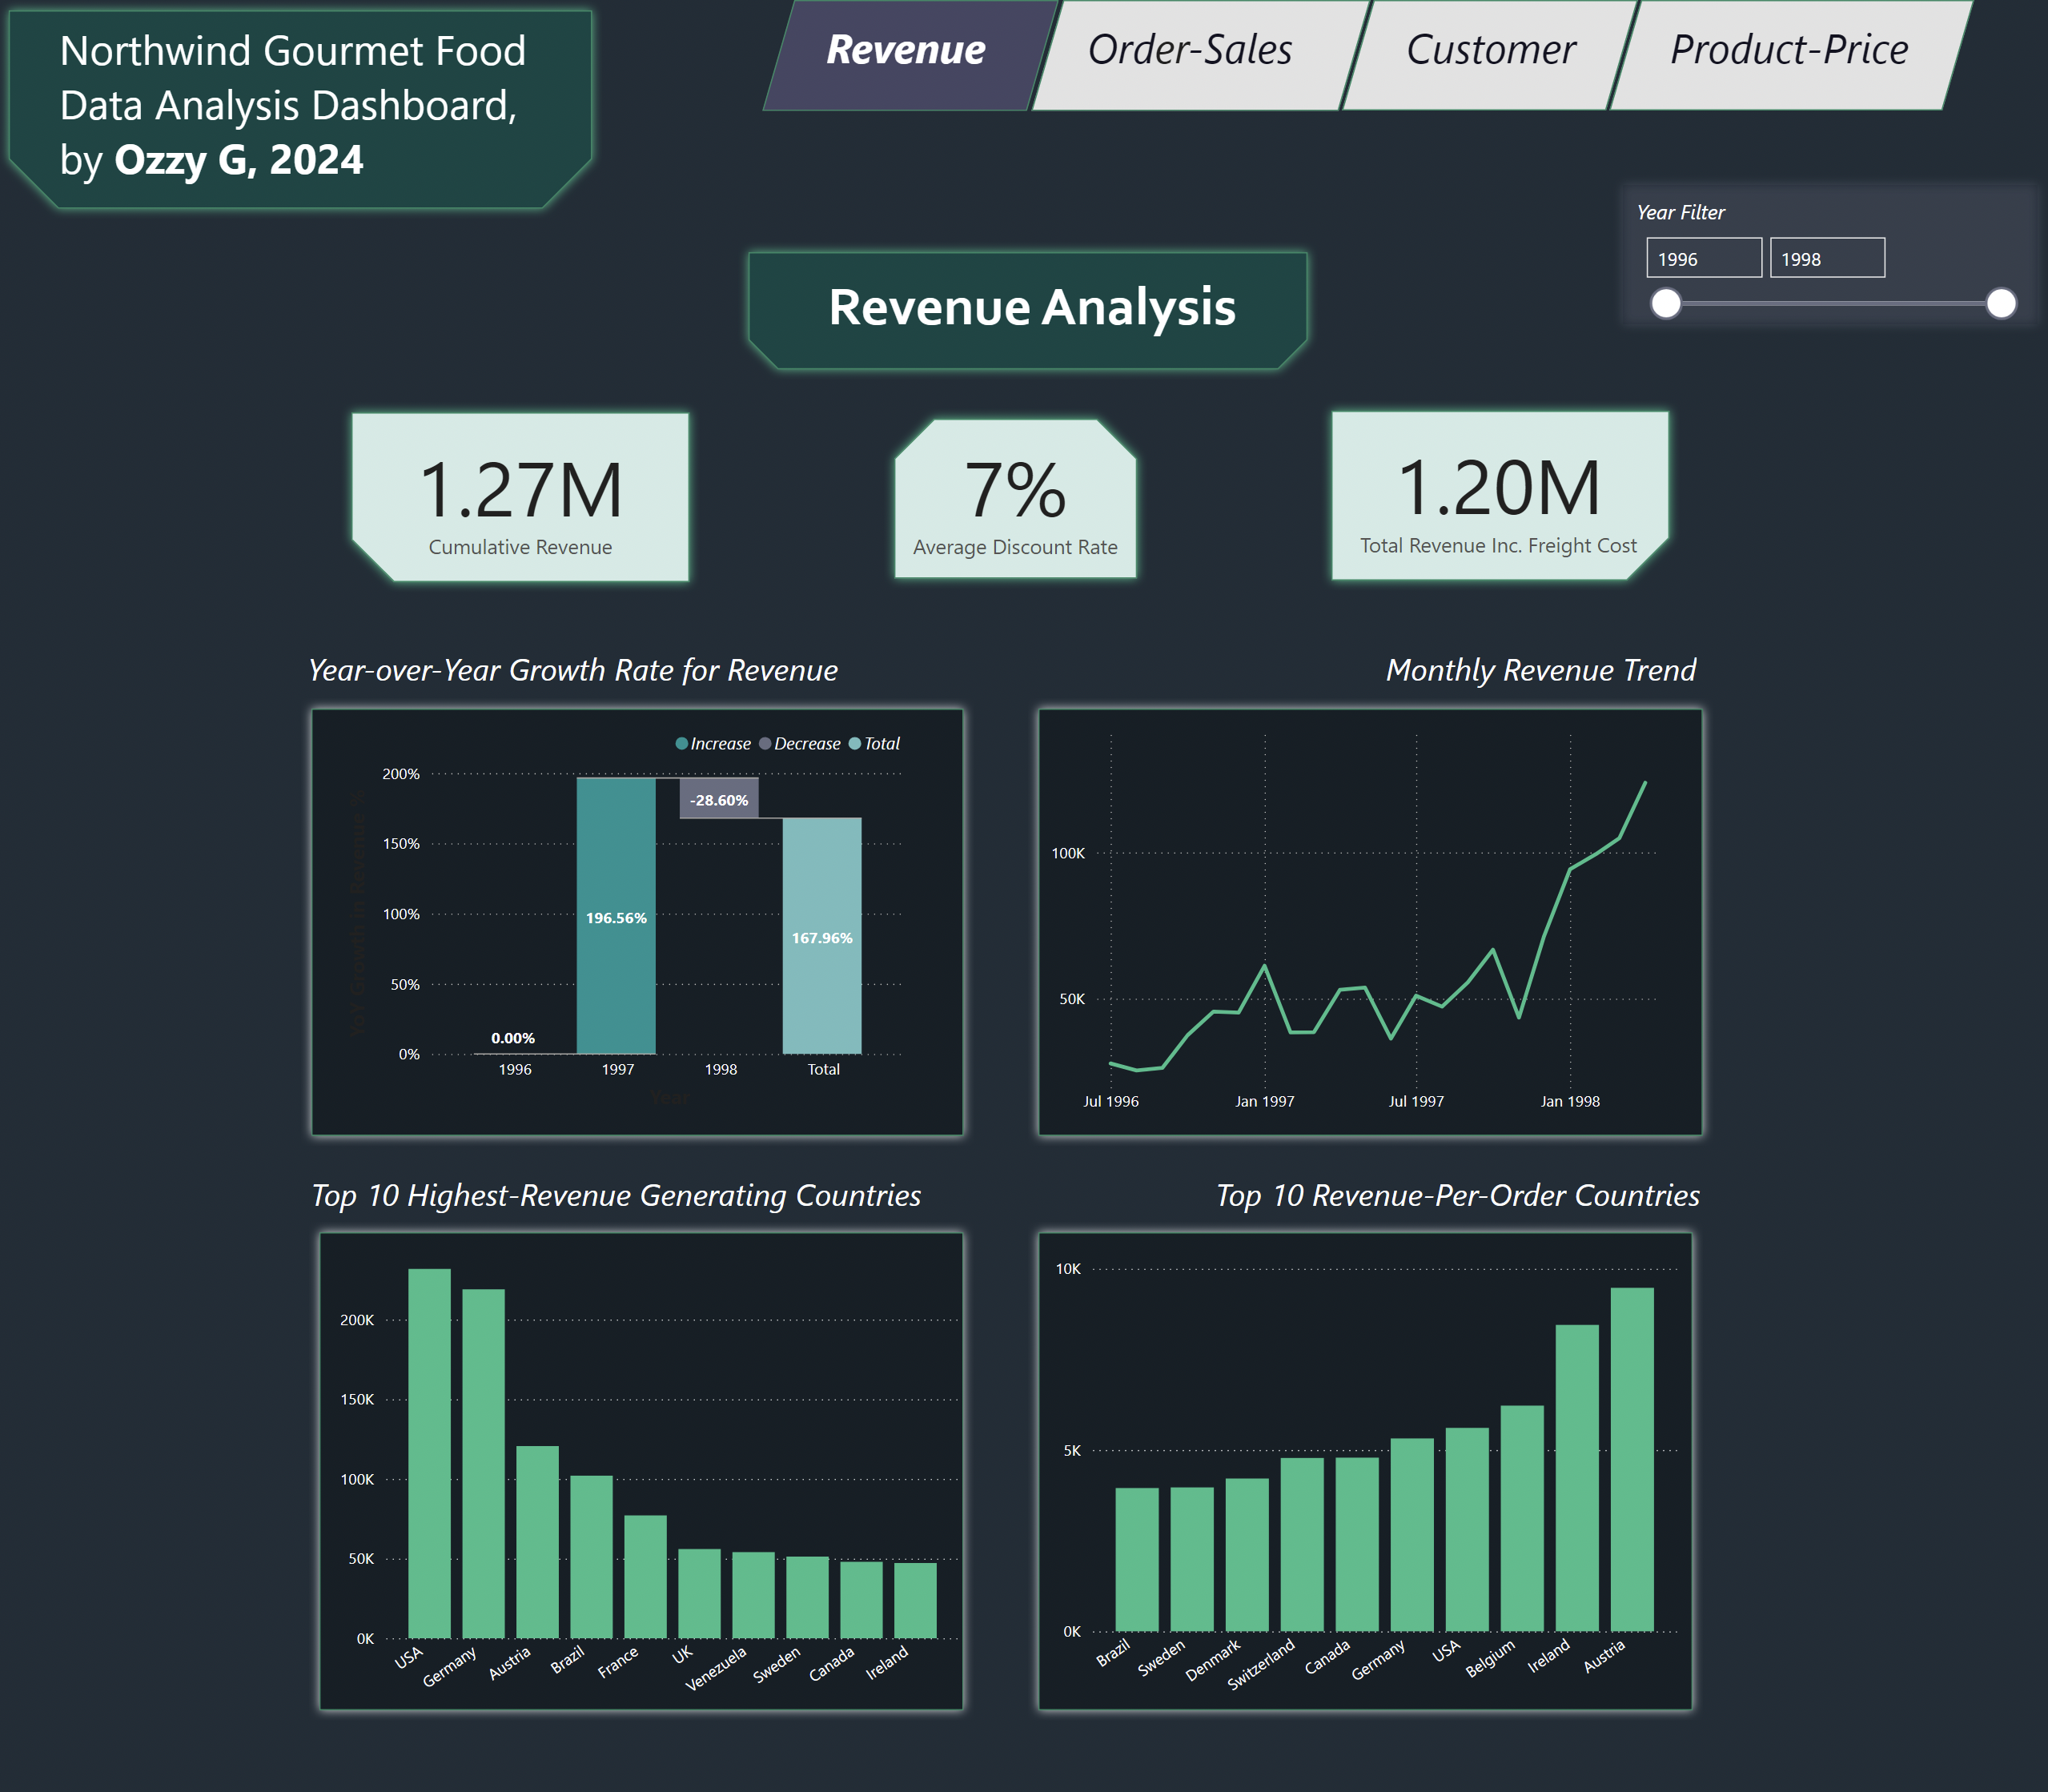

Layout of this report page (visuals, bound fields, positions):
{"tool":"powerbi","page":{"name":"1) Revenue Analysis","canvas":[1600,1400],"ordinal":0},"visuals":[{"type":"shape","box":[235.8,544.7,525.3,349.7],"z":0},{"type":"shape","box":[1260,136.2,340,125],"z":1000},{"type":"shape","box":[1032.3,312.1,280.1,148.7],"z":2000},{"type":"shape","box":[691.5,318.5,205.7,140.8],"z":3000},{"type":"shape","box":[268.1,313.7,280.1,148.7],"z":4000},{"type":"shape","box":[0,0,471.5,170.9],"z":5000},{"type":"shape","box":[806.7,0,265,86.7],"z":6000},{"type":"textbox","box":[42.7,11.1,394,142.4],"z":7000},{"type":"shape","box":[577.5,188.3,452.5,107.6],"z":8000},{"type":"textbox","box":[642.4,207.3,348.1,72.8],"z":9000},{"type":"card","fields":{"Values":["DAX Measures.Average Discount Rate"]},"box":[704.1,329.5,180.4,115.5],"z":10000},{"type":"card","fields":{"Values":["DAX Measures.Total Rev Exc Freight"]},"box":[1046.2,323.8,250,125],"z":11000},{"type":"textbox","box":[845,10,190,65],"z":12000},{"type":"slicer","title":"Year Filter","fields":{"Values":["Calendar.Year"]},"box":[1273.8,153.8,311.2,107.5],"z":13000},{"type":"shape","box":[1048.8,0,231.2,86.2],"z":14000},{"type":"textbox","box":[1093.3,10,155,65],"z":15000},{"type":"shape","box":[1257.5,0,285,86.2],"z":16000},{"type":"textbox","box":[1300,10,206.7,65],"z":17000},{"type":"card","fields":{"Values":["DAX Measures.Cum Sum Dis Revenue"]},"box":[285.5,312.1,245.3,150.3],"z":18000},{"type":"shape","box":[803.8,544.7,534.8,349.7],"z":19000},{"type":"lineChart","fields":{"Category":["Revenue Monthly Data.monthly_date"],"Y":["Sum(Revenue Monthly Data.discounted_monthly_revenue)"]},"box":[816.5,560.1,498.4,318],"z":20000},{"type":"textbox","box":[238.9,909.8,511.1,44.3],"z":21000},{"type":"textbox","box":[816.5,909.8,517.4,44.3],"z":22000},{"type":"shape","box":[242.1,954.1,519,389.2],"z":23000},{"type":"shape","box":[803.8,954.1,526.9,389.2],"z":24000},{"type":"lineStackedColumnComboChart","fields":{"Category":["Revenue Country Data.country"],"Y":["Sum(Revenue Country Data.monthly_revenue_exc_freight)"]},"box":[261.2,966.2,493.8,377.5],"z":25000},{"type":"textbox","box":[235.8,500.4,462,44.3],"z":26000},{"type":"textbox","box":[791.1,500.4,539.6,44.3],"z":27000},{"type":"columnChart","fields":{"Category":["Revenue Country Data.country"],"Y":["Sum(Revenue Country Data.profit_per_order_generated)"]},"box":[819.6,976.3,495.3,367.1],"z":28000},{"type":"shape","box":[596.7,0,231.7,86.7],"z":29000},{"type":"textbox","box":[641.7,10,160,65],"z":30000},{"type":"waterfallChart","fields":{"Category":["Calendar.Year"],"Y":["DAX Measures.YoY Dis Revenue %"]},"box":[267.5,560,446.2,311],"z":31000}]}

Visuals, with their boxes in screenshot pixels (x1, y1, x2, y2), scaled from the page's 1600x1400 canvas onto the 2048x1792 screenshot:
shape: x1=302, y1=697, x2=974, y2=1145
shape: x1=1612, y1=175, x2=2047, y2=335
shape: x1=1321, y1=400, x2=1680, y2=590
shape: x1=885, y1=408, x2=1148, y2=588
shape: x1=343, y1=401, x2=701, y2=592
shape: x1=0, y1=0, x2=604, y2=219
shape: x1=1033, y1=0, x2=1371, y2=111
textbox: x1=54, y1=14, x2=559, y2=196
shape: x1=739, y1=241, x2=1319, y2=379
textbox: x1=822, y1=265, x2=1268, y2=359
card - DAX Measures.Average Discount Rate: x1=902, y1=422, x2=1132, y2=569
card - DAX Measures.Total Rev Exc Freight: x1=1339, y1=415, x2=1659, y2=574
textbox: x1=1082, y1=13, x2=1325, y2=96
"Year Filter" slicer: x1=1630, y1=197, x2=2029, y2=335
shape: x1=1343, y1=0, x2=1638, y2=110
textbox: x1=1399, y1=13, x2=1598, y2=96
shape: x1=1609, y1=0, x2=1974, y2=110
textbox: x1=1664, y1=13, x2=1929, y2=96
card - DAX Measures.Cum Sum Dis Revenue: x1=365, y1=400, x2=680, y2=592
shape: x1=1029, y1=697, x2=1713, y2=1145
lineChart - Revenue Monthly Data.monthly_date x Sum(Revenue Monthly Data.discounted_monthly_revenue): x1=1045, y1=717, x2=1683, y2=1124
textbox: x1=306, y1=1164, x2=960, y2=1221
textbox: x1=1045, y1=1164, x2=1708, y2=1221
shape: x1=310, y1=1221, x2=974, y2=1719
shape: x1=1029, y1=1221, x2=1703, y2=1719
lineStackedColumnComboChart - Revenue Country Data.country x Sum(Revenue Country Data.monthly_revenue_exc_freight): x1=335, y1=1237, x2=966, y2=1720
textbox: x1=302, y1=641, x2=893, y2=697
textbox: x1=1013, y1=641, x2=1703, y2=697
columnChart - Revenue Country Data.country x Sum(Revenue Country Data.profit_per_order_generated): x1=1049, y1=1250, x2=1683, y2=1720
shape: x1=764, y1=0, x2=1060, y2=111
textbox: x1=821, y1=13, x2=1026, y2=96
waterfallChart - Calendar.Year x DAX Measures.YoY Dis Revenue %: x1=343, y1=717, x2=914, y2=1115
